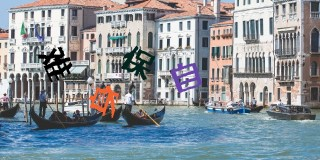保: (121, 46, 155, 80)
自: (170, 62, 202, 93)
身: (89, 85, 119, 119)
难: (38, 46, 72, 82)
